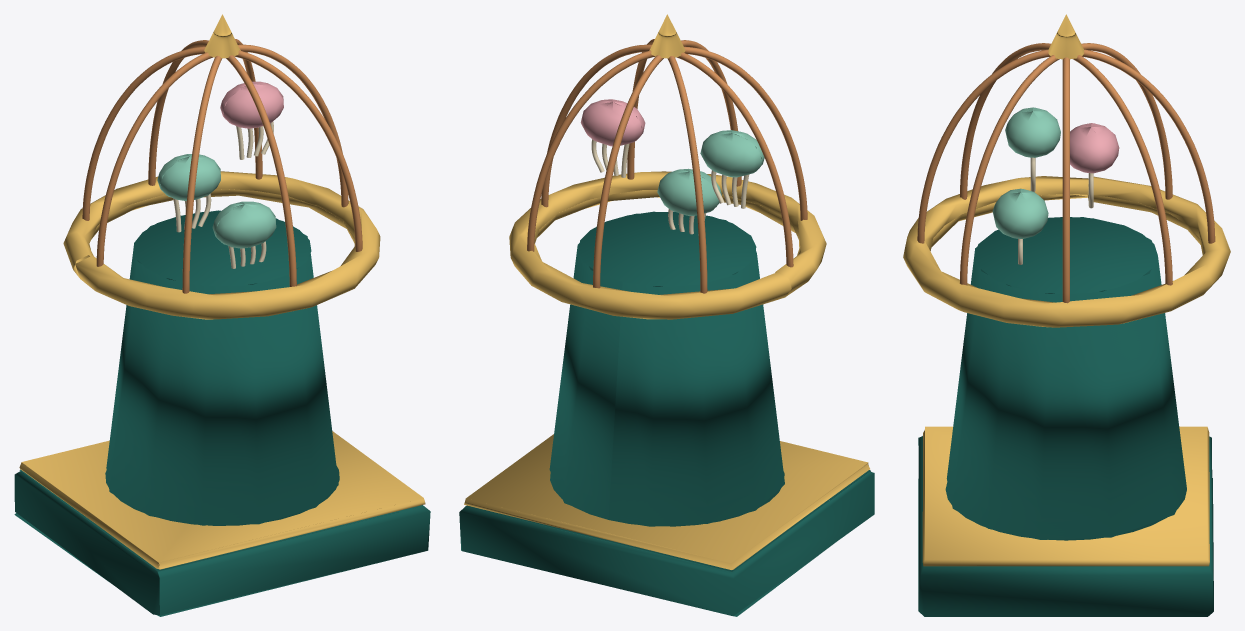
3 views of the same model, side by side, from view 1: azimuth 30°, elevation 25°; view 2: azimuth 150°, elevation 25°; view 3: azimuth 270°, elevation 25° (orthographic). The views are drawn at different scales.
Visible parts, largest first — view 1: Jade footing, Brass welt, Observatory dome rib, Gelato bell.002, Gelato bell, Gelato bell.001, Jelly ribbon.004; view 2: Jade footing, Brass welt, Observatory dome rib, Gelato bell, Gelato bell.001, Gelato bell.002, Jelly ribbon, Jelly ribbon.004; view 3: Jade footing, Brass welt, Observatory dome rib, Gelato bell, Gelato bell.002, Gelato bell.001.
Boxes of the visible parts, box(x1,y1,x2,y2) form: Jade footing: box(14, 210, 430, 616); Brass welt: box(19, 14, 425, 569); Observatory dome rib: box(82, 39, 362, 293); Gelato bell.002: box(212, 201, 276, 248); Gelato bell: box(157, 154, 220, 200); Gelato bell.001: box(220, 81, 283, 128); Jelly ribbon.004: box(236, 121, 273, 159); Jade footing: box(459, 211, 874, 616); Brass welt: box(464, 14, 869, 569); Observatory dome rib: box(527, 39, 807, 293); Gelato bell: box(700, 130, 764, 177); Gelato bell.001: box(580, 99, 645, 146); Gelato bell.002: box(657, 168, 721, 215); Jelly ribbon: box(711, 170, 749, 208); Jelly ribbon.004: box(591, 139, 629, 177); Jade footing: box(918, 217, 1213, 616); Brass welt: box(903, 14, 1230, 566); Observatory dome rib: box(917, 43, 1215, 303); Gelato bell: box(1005, 107, 1060, 157); Gelato bell.002: box(992, 188, 1048, 238); Gelato bell.001: box(1070, 123, 1119, 173).
Size of the model in its own units: 0.791 by 1.42 by 0.7872.
